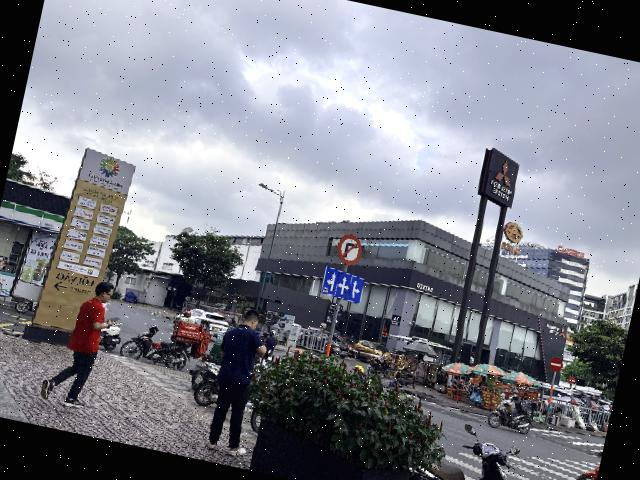cam-di-nguoc-chieu: (546, 355, 564, 373)
cam-re-trai: (334, 233, 364, 268)
